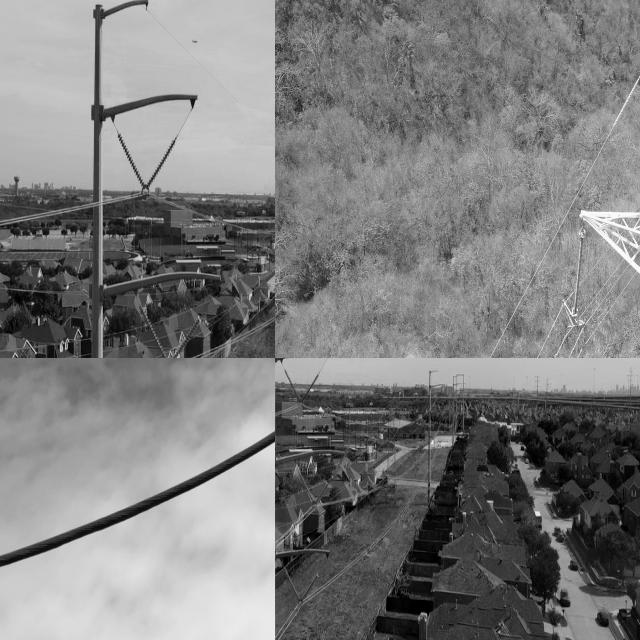正常电缆: (0, 402, 275, 579)
正常绝缘子: (138, 127, 185, 204), (111, 120, 153, 200), (570, 208, 590, 332), (134, 291, 171, 358), (170, 310, 206, 358), (297, 467, 318, 508), (311, 473, 336, 505), (283, 367, 303, 405), (297, 572, 320, 605), (298, 372, 320, 406), (283, 566, 303, 603)
